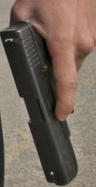pistol: (1, 15, 90, 185)
